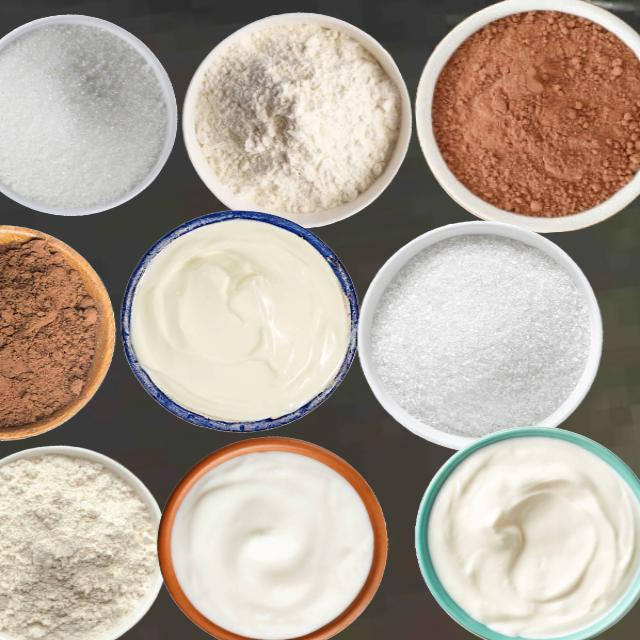Cocoa: (430, 7, 639, 217), (0, 221, 101, 433)
Flour: (193, 20, 399, 213), (0, 453, 159, 639)
Sugar: (369, 233, 591, 437), (0, 21, 167, 210)
